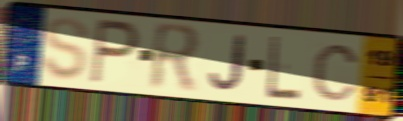C: (311, 42, 361, 103)
J: (207, 33, 248, 93)
L: (266, 34, 302, 102)
P: (87, 16, 142, 87)
R: (147, 20, 204, 96)
S: (39, 15, 92, 83)
